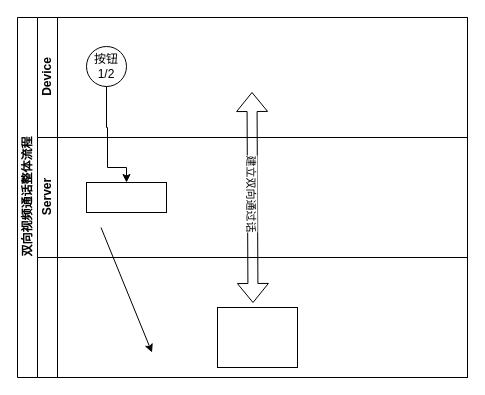
The diagram is 485 pixels wide and 395 high, and some of its shapes have lost their labels. The box of each missing label's shape, as (x1, y1, x2, y2) in pixels:
API集成推送: (86, 182, 166, 212)
App: (36, 256, 468, 378)
